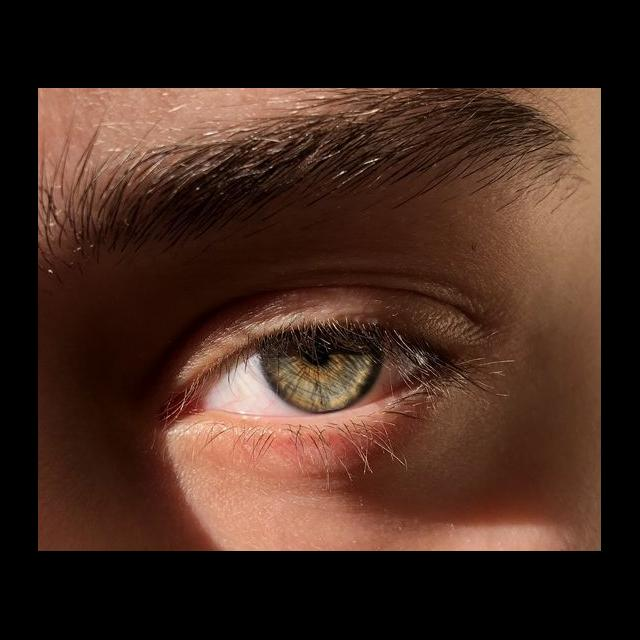eye: (191, 320, 434, 421)
iris: (256, 329, 387, 417)
